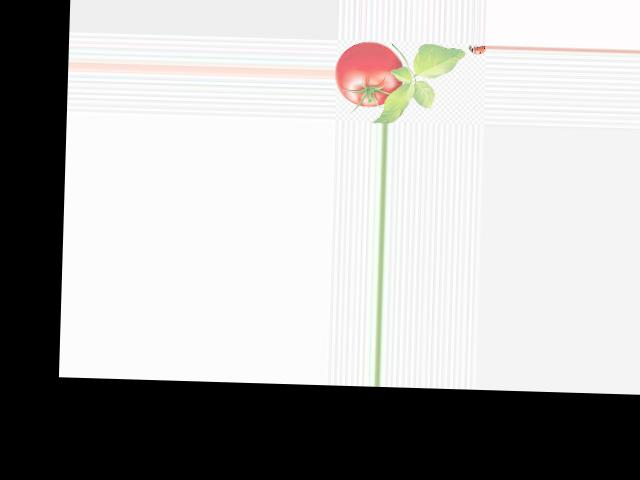tomato: (334, 40, 404, 107)
